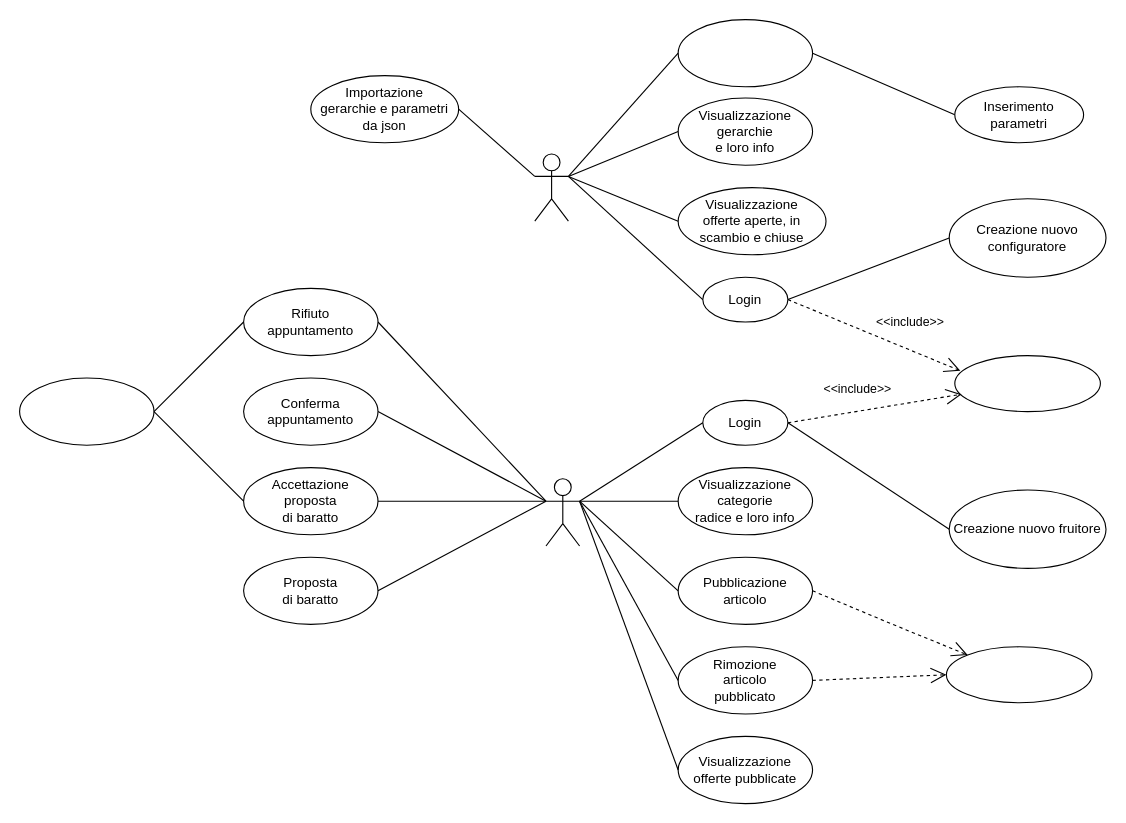
This 1126x823 diagram has some shape labels left out. The shapes that lost their labels are listed below. From the top down, each one's centre as x and y in pixels, then its label:
(745,52): Creazione nuove gerarchie
(551,187): Configuratore
(1027,383): Verifica credenziali
(86,411): Proposta appuntamento
(562,512): Fruitore
(1018,674): Storico offerte
